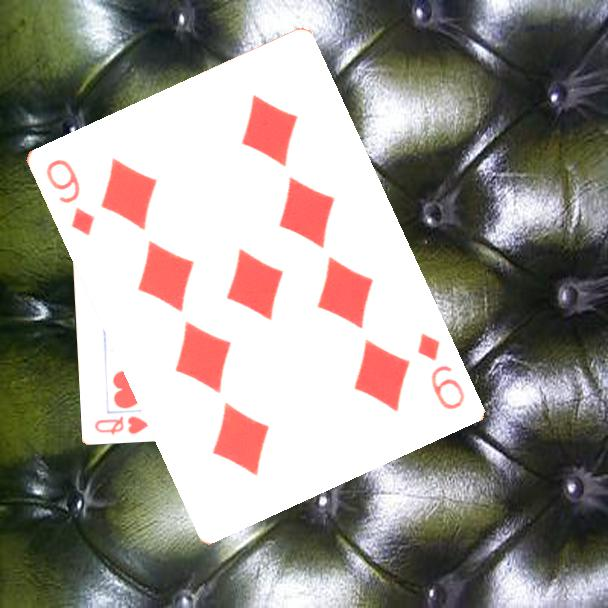d09: (41, 155, 97, 239), (413, 329, 468, 413)
h12: (91, 412, 153, 437)
